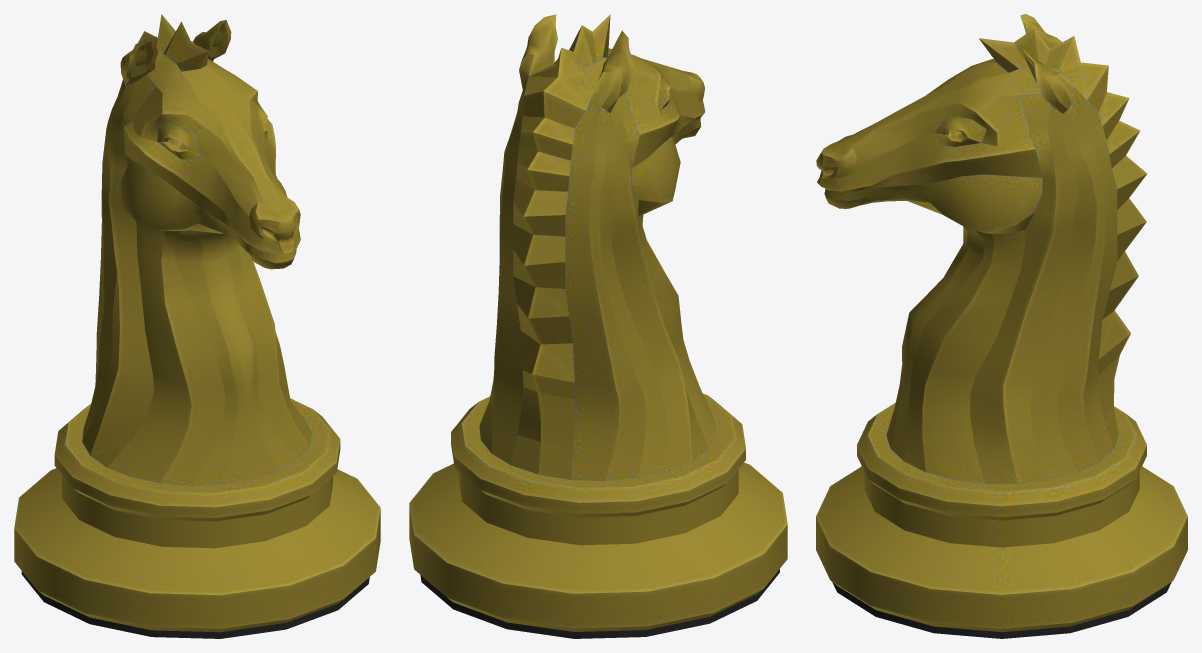
The picture shows the model from 3 angles, left to right: view 1: azimuth 30°, elevation 25°; view 2: azimuth 150°, elevation 25°; view 3: azimuth 270°, elevation 25°; orthographic projection. The views are drawn at different scales.
Visible parts, largest first — view 1: Object_12.001; view 2: Object_12.001; view 3: Object_12.001.
Boxes of the visible parts, box(x1,y1,x2,y2) form: Object_12.001: box(14, 14, 380, 638); Object_12.001: box(409, 14, 787, 638); Object_12.001: box(816, 14, 1187, 638).
Bounding box in the file's own units: 1.02 × 1.63 × 1.02.
1 material, 1 textured.
